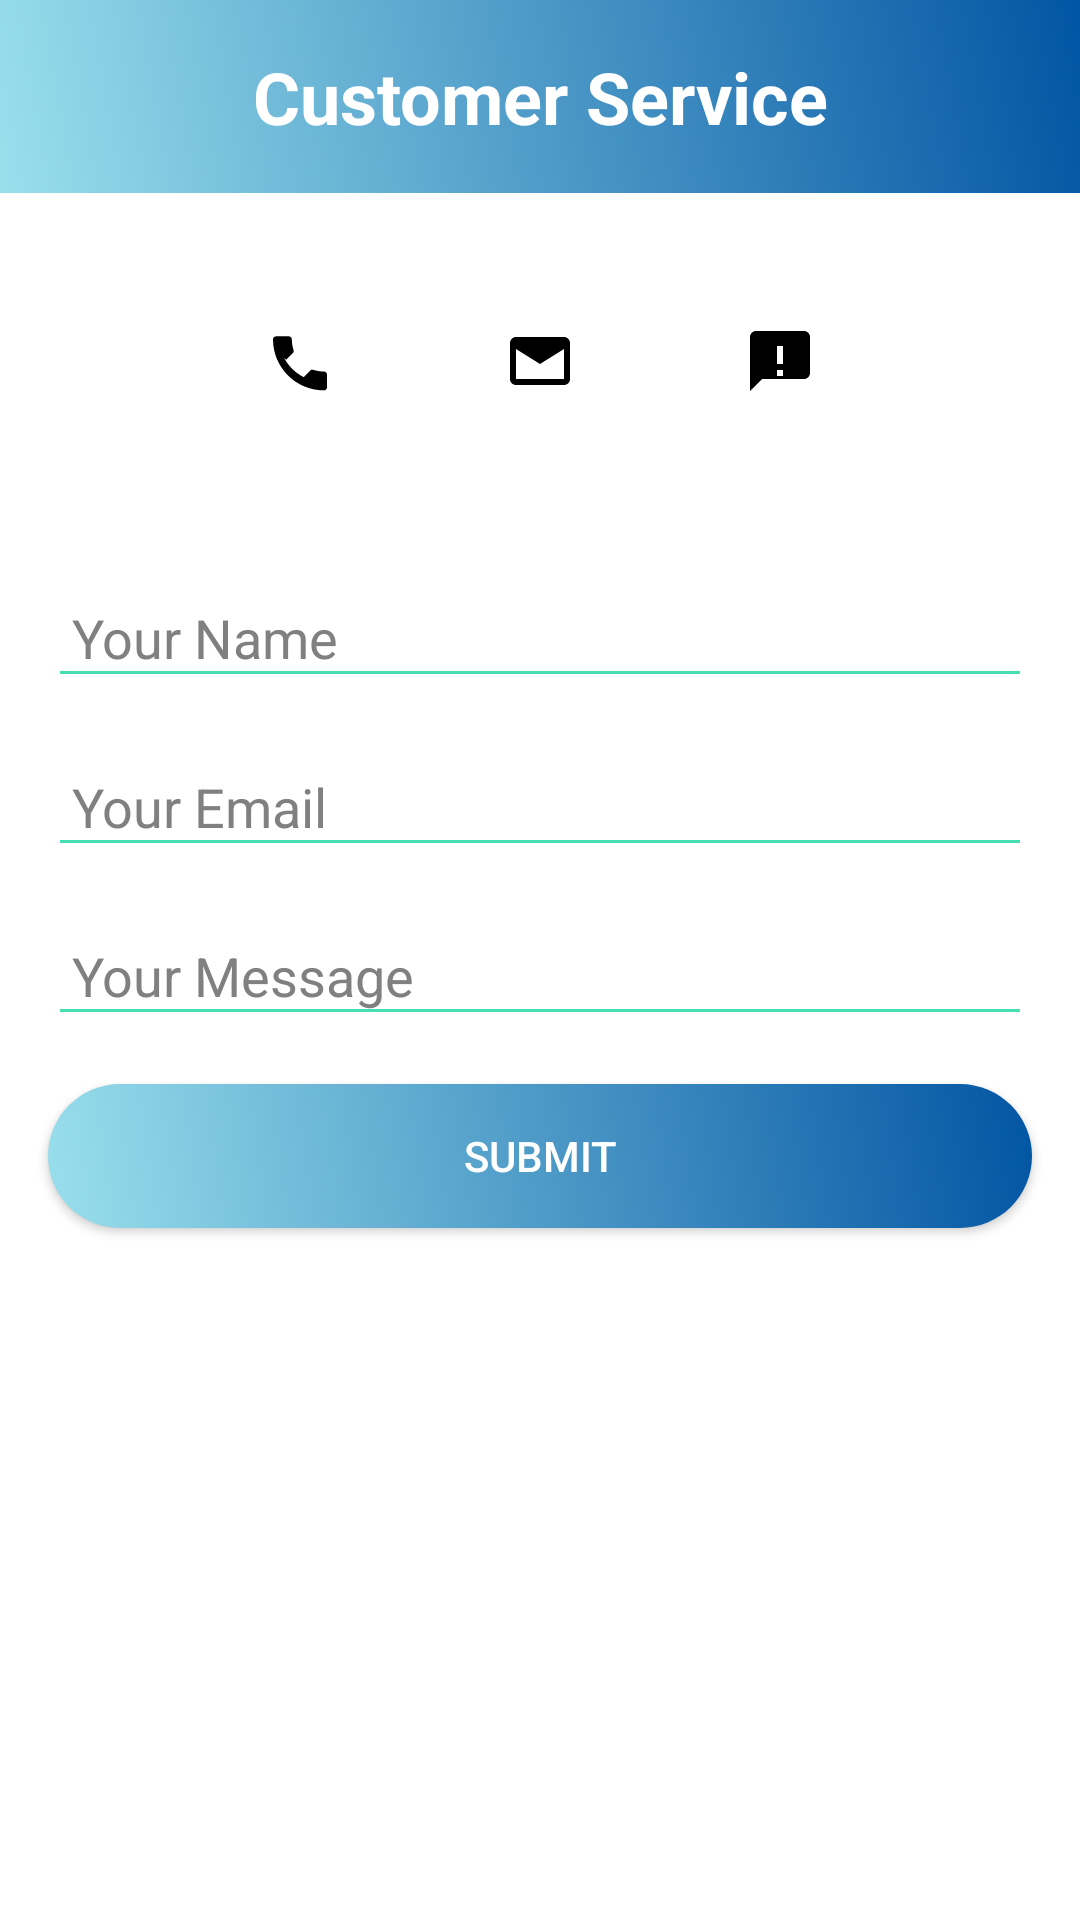

Where to tap for icons on this 1080px×1920px app screen, as [x,y]:
Call: [300,363]
Chat: [780,361]
Email: [540,361]
